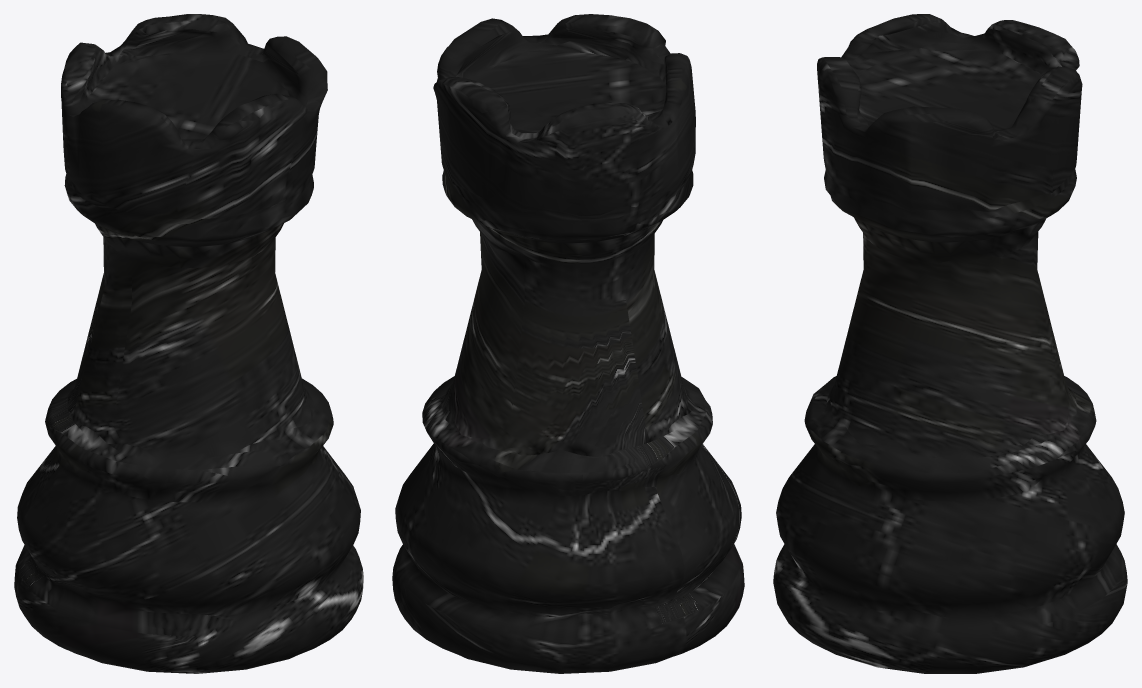
The model's file is black_rook.glb.
The picture shows the model from 3 angles, left to right: view 1: azimuth 30°, elevation 25°; view 2: azimuth 150°, elevation 25°; view 3: azimuth 270°, elevation 25°; orthographic projection.
Parts seen in each view (by area): view 1: Circle.007; view 2: Circle.007; view 3: Circle.007.
Part boxes in pixels (box(x1,y1,x2,y2)): Circle.007: box(14, 14, 363, 673); Circle.007: box(392, 14, 744, 673); Circle.007: box(773, 14, 1127, 673).
Bounding box in the file's own units: 1.25 × 2.14 × 1.25.
Materials: 1 (1 with a texture image).
